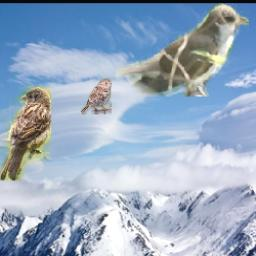Cuckoo: (116, 3, 249, 97)
Sparrow: (0, 86, 52, 180), (81, 79, 112, 114)
